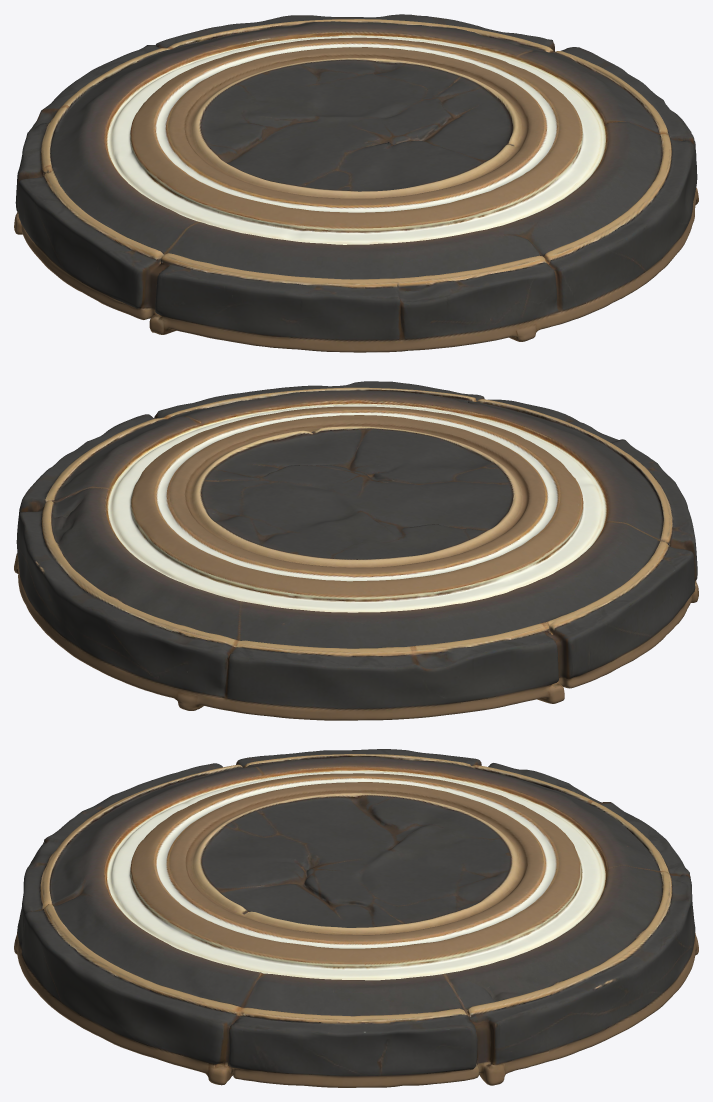
Rendered from tripo_convert_13e5d83a-4e52-4f66-9b44-f12bec64a843.fbx.
The picture shows the model from 3 angles, top to bottom: view 1: azimuth 30°, elevation 25°; view 2: azimuth 150°, elevation 25°; view 3: azimuth 270°, elevation 25°; orthographic projection.
Visible parts, largest first — view 1: tripo_node_13e5d83a; view 2: tripo_node_13e5d83a; view 3: tripo_node_13e5d83a.
Part boxes in pixels (x1,y1,x2,y2): tripo_node_13e5d83a: (14, 14, 698, 352); tripo_node_13e5d83a: (14, 381, 698, 720); tripo_node_13e5d83a: (14, 749, 698, 1087).
Bounding box in the file's own units: 0.9741 × 0.1477 × 0.9817.
Materials: 1 (1 with a texture image).
